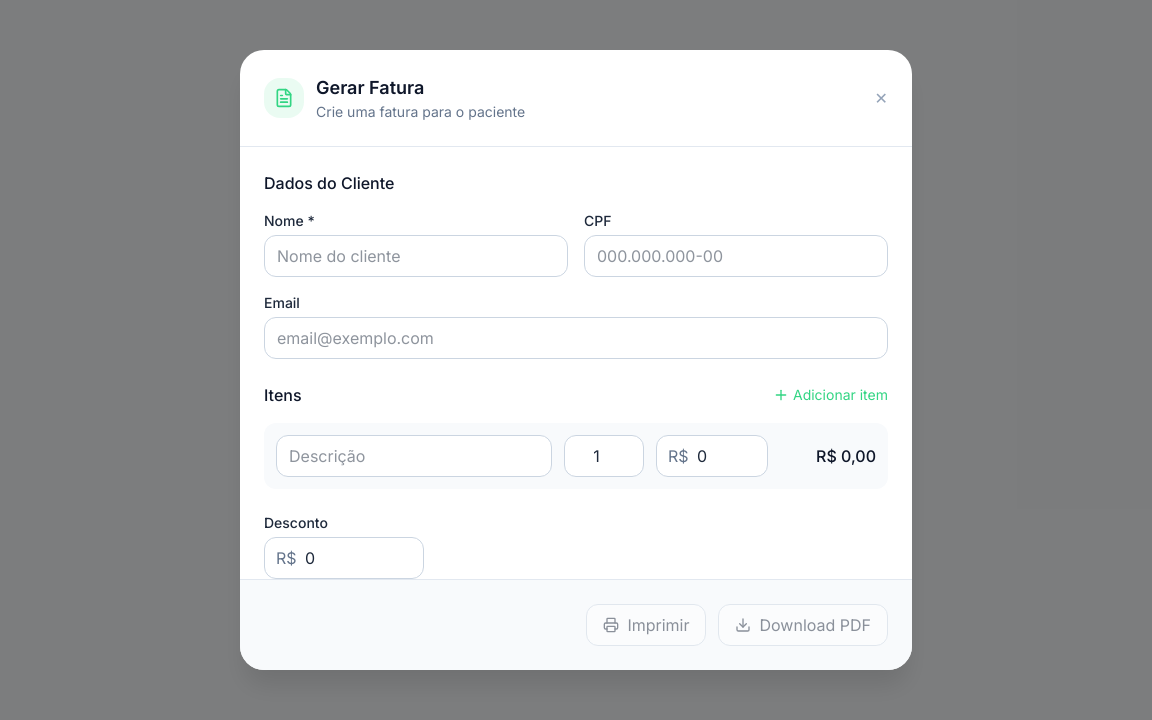
InvoiceGenerator - Items Management › editing items › should update item quantity
Type "5" into the 1st number field.
click(604, 456); type("5")  # box [564,435,644,477]
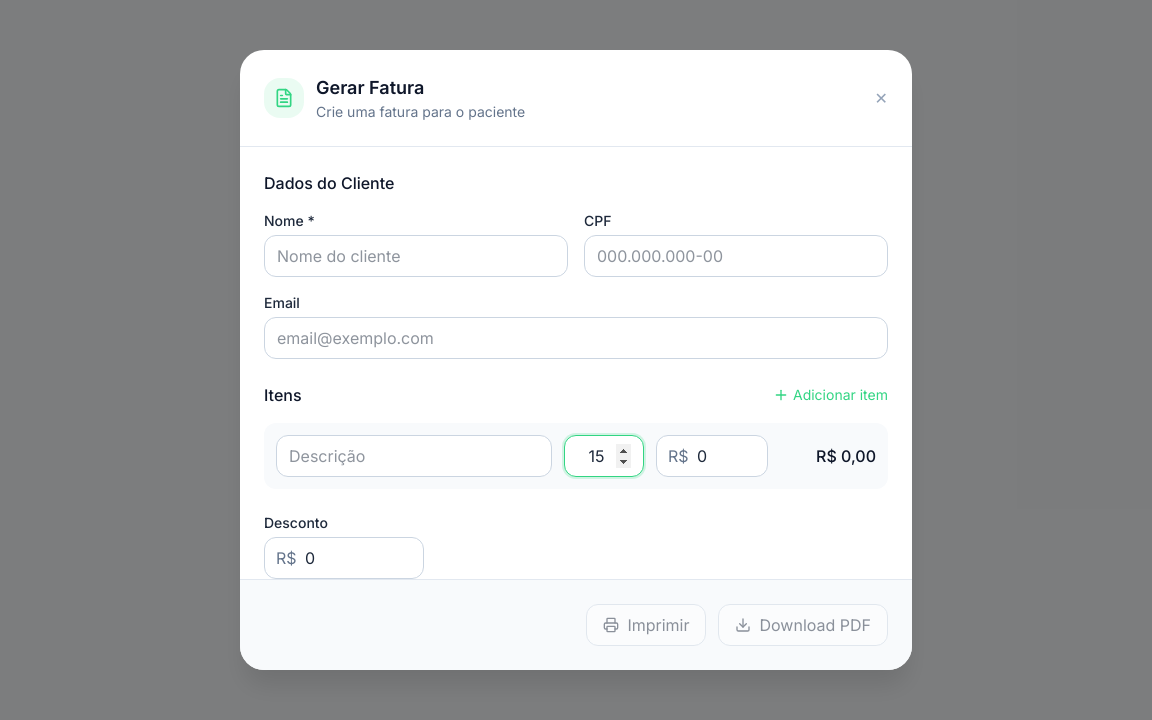
Expected: the 1st number field holds "15", [564,435,644,477]
